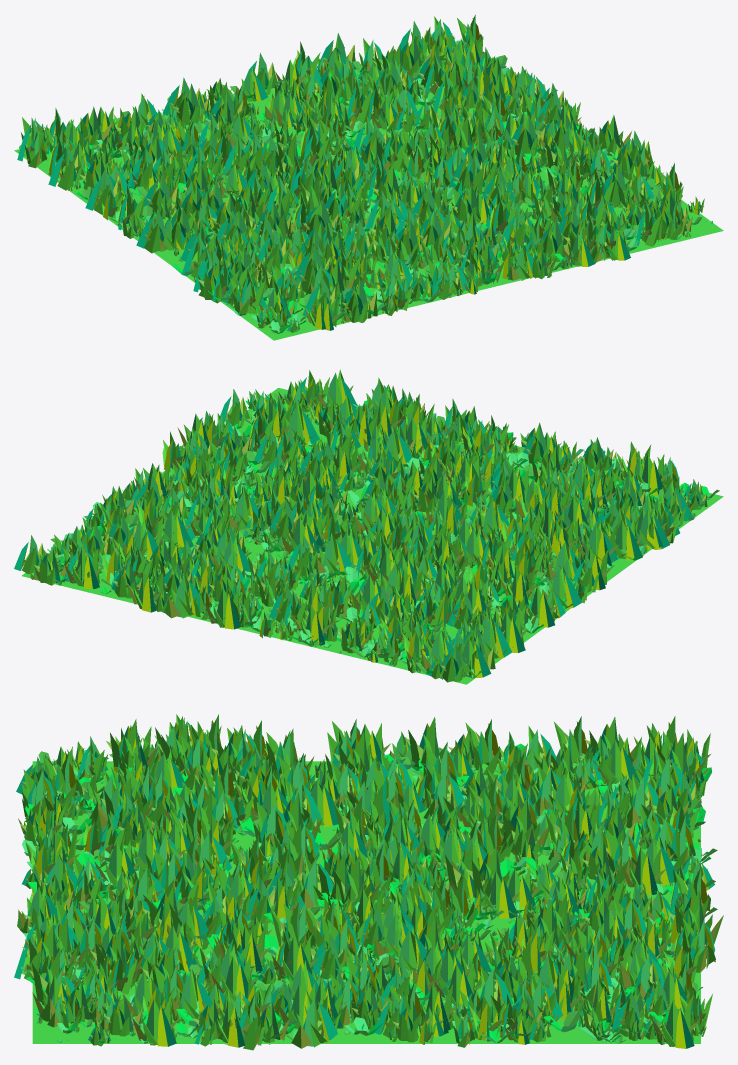
The model's file is MixedGrass.fbx.
3 renders of one model, top to bottom at view 1: azimuth 30°, elevation 25°; view 2: azimuth 150°, elevation 25°; view 3: azimuth 270°, elevation 25°, orthographic. The views are drawn at different scales.
Visible parts, largest first — view 1: Plane.005; view 2: Plane.005; view 3: Plane.005.
Boxes of the visible parts, x1,y1,x2,y2 form: Plane.005: [14, 14, 723, 340]; Plane.005: [14, 369, 723, 684]; Plane.005: [14, 714, 723, 1050].
Bounding box in the file's own units: 24.76 × 2.13 × 24.82.
